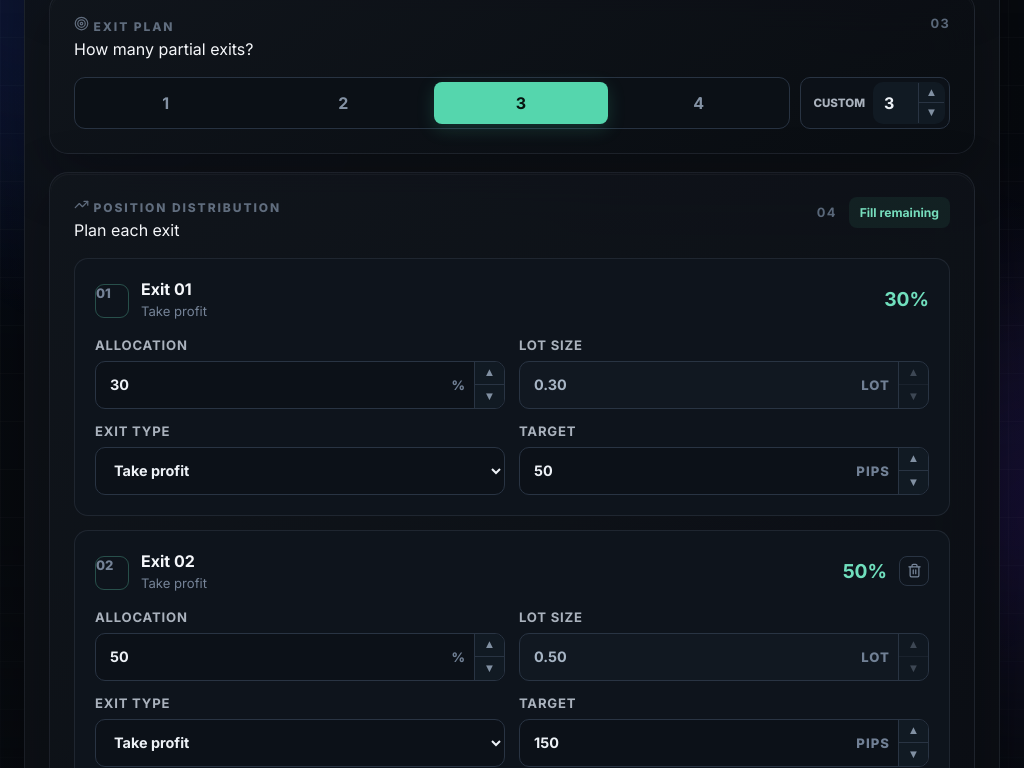
Test: partial TP planner app › renders the planner and updates an exit allocation
(page scrolled)
Replace the text in the 1st number field labelled "Allocation % ▲ ▼" with "40". click: (300, 385)
box: top-left (95, 361), bottom-right (505, 409)
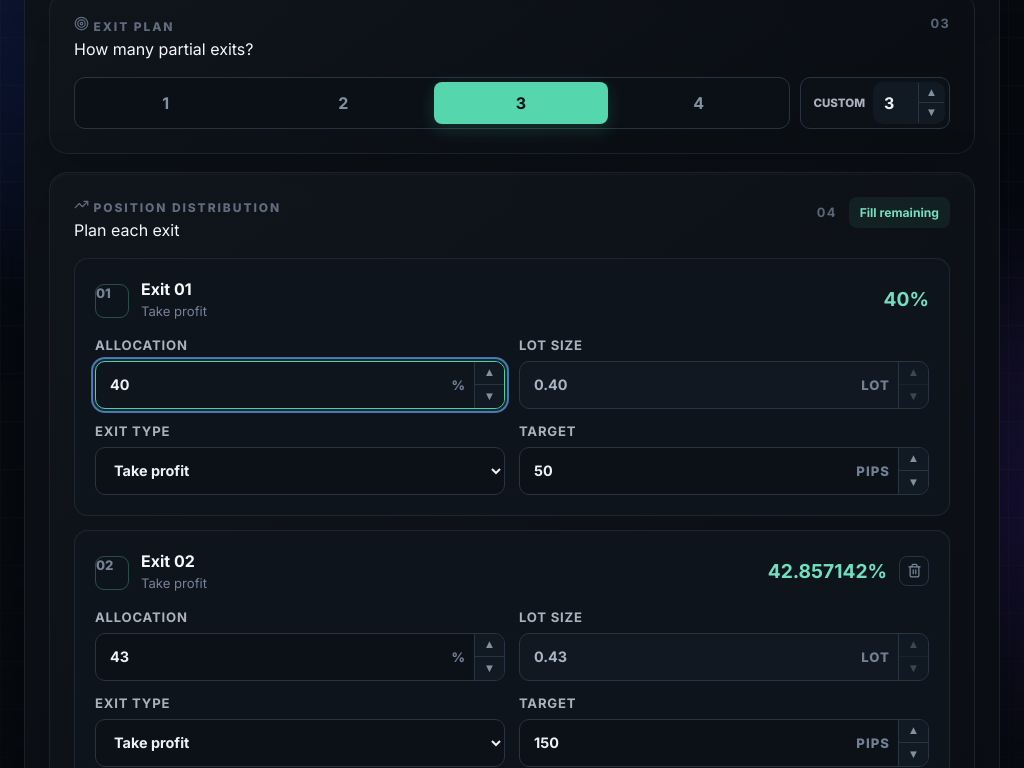
Expected: the text "40%" is shown, top-left (884, 287), bottom-right (929, 311)
